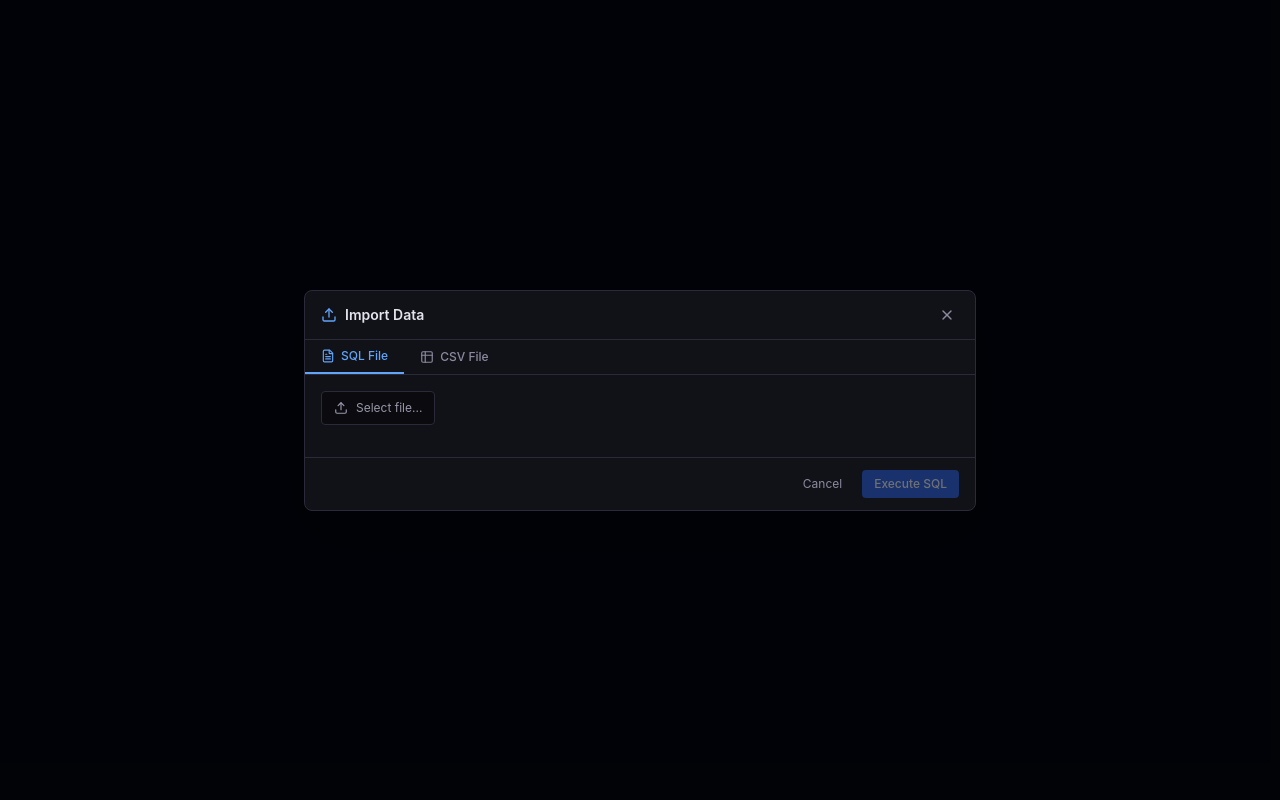
Test: ImportDialog › SQL mode › says when the preview did not reach the end of the file
The image size is (1280, 800).
Click the button "Select file..." at (378, 408), box [321,390,435,424]
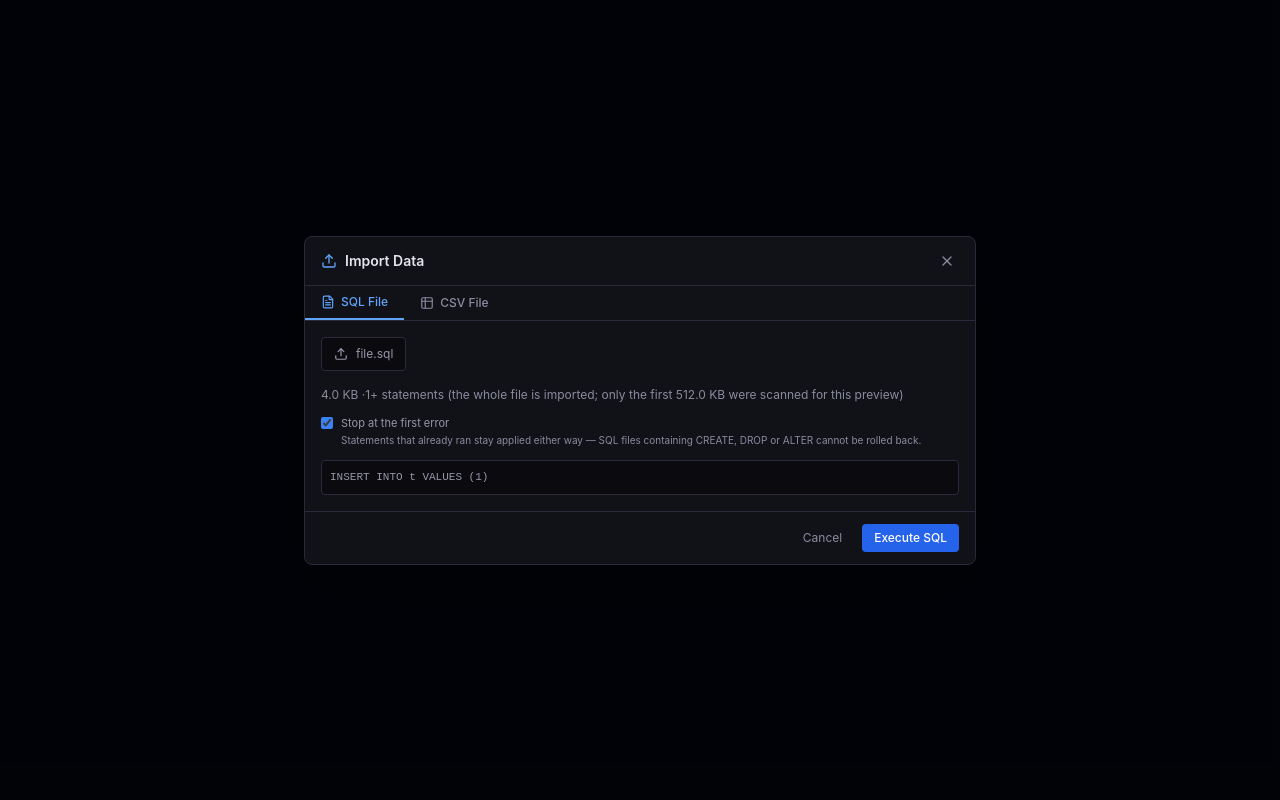
expect the text "the whole file is imported" is shown: met, box [365,386,904,402]
